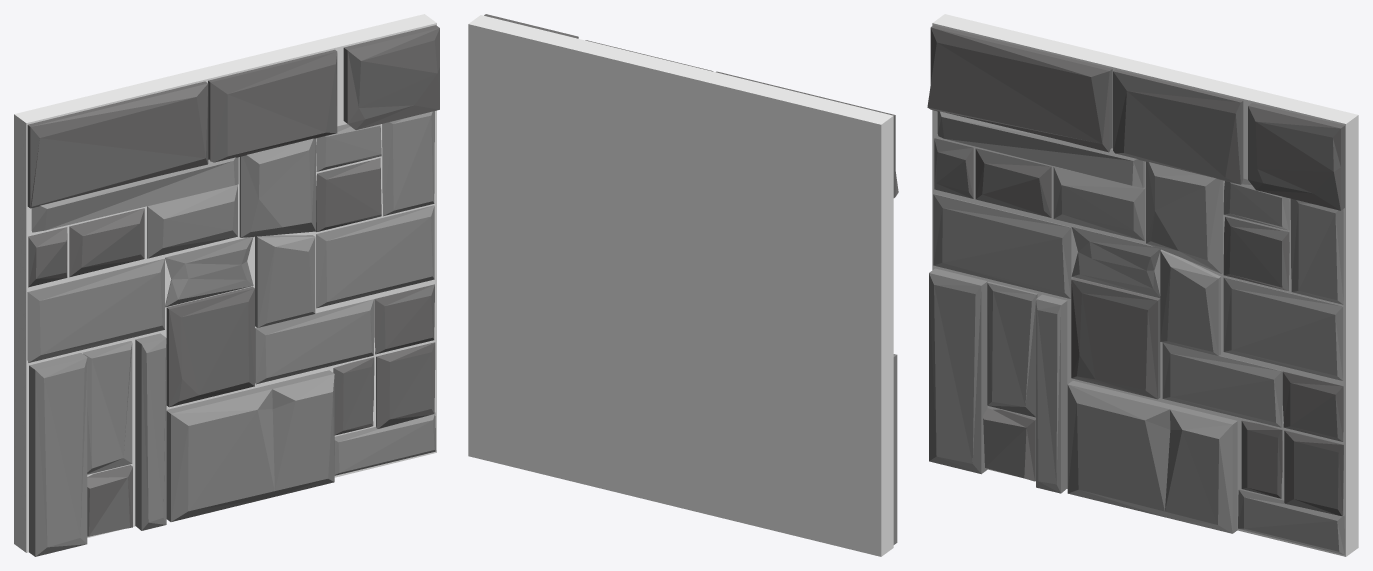
The model's file is _FOUNDATION_03_1.glb.
3 renders of one model, left to right at view 1: azimuth 30°, elevation 25°; view 2: azimuth 150°, elevation 25°; view 3: azimuth 330°, elevation 25°, orthographic.
Parts seen in each view (by area): view 1: FOUNDATION_03_1; view 2: FOUNDATION_03_1; view 3: FOUNDATION_03_1.
Boxes of the visible parts, left/top/right/bottom form: FOUNDATION_03_1: left=14, top=14, right=439, bottom=556; FOUNDATION_03_1: left=468, top=14, right=898, bottom=556; FOUNDATION_03_1: left=927, top=14, right=1358, bottom=556.
Size of the model in its own units: 1 by 1 by 0.0987.
1 material, 1 textured.
